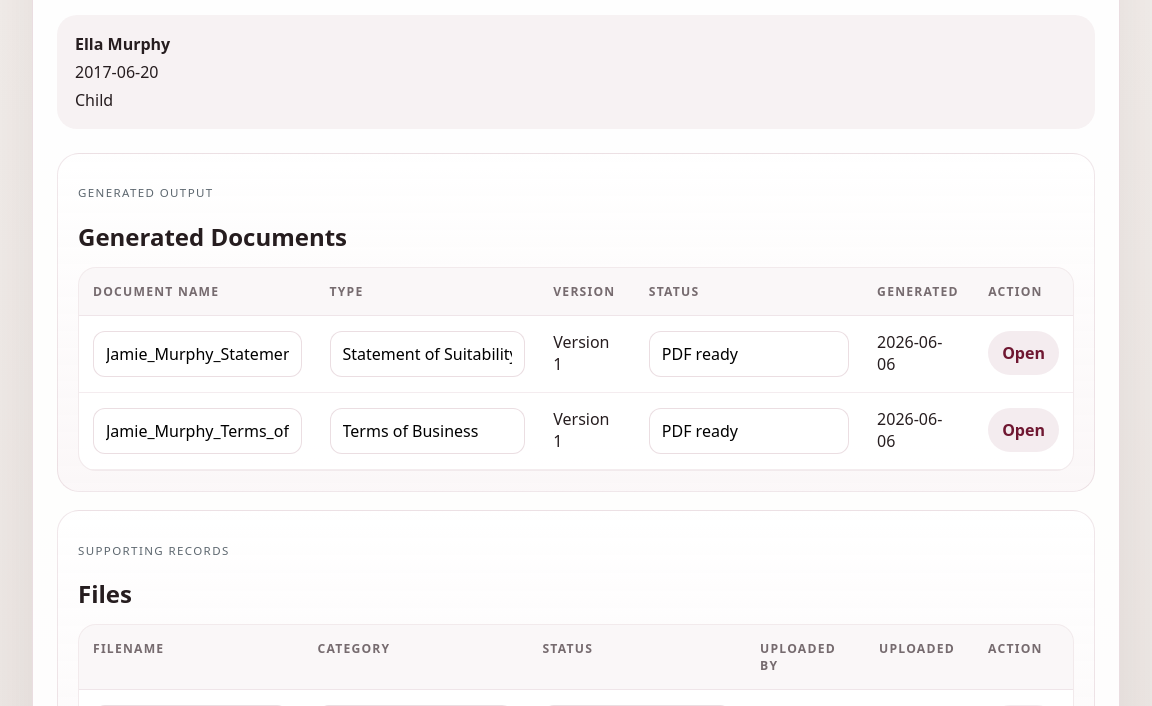
Test: App routes › opens a generated document from the client file
(page scrolled)
Click the 1st button "Open": (1024, 353) [988, 331, 1059, 375]
(page scrolled)
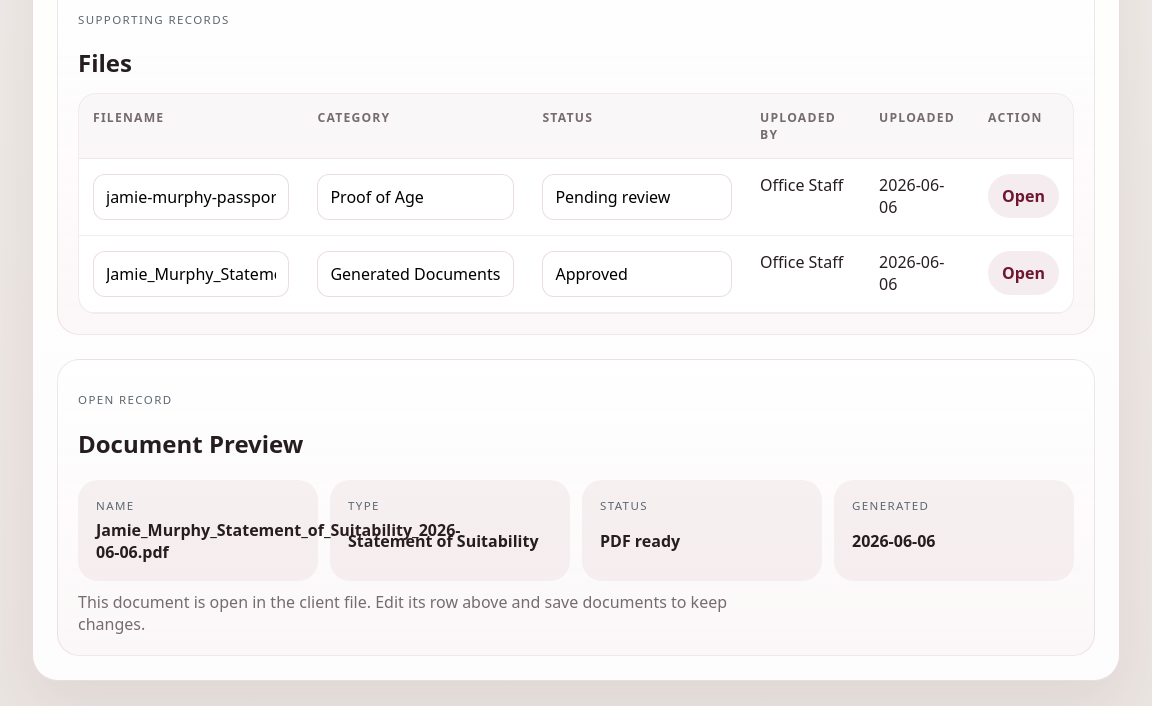
Now the heading "Document Preview" is shown, box [78, 427, 303, 460]
Now the text "Statement of Suitability" is shown, box [348, 530, 552, 563]
